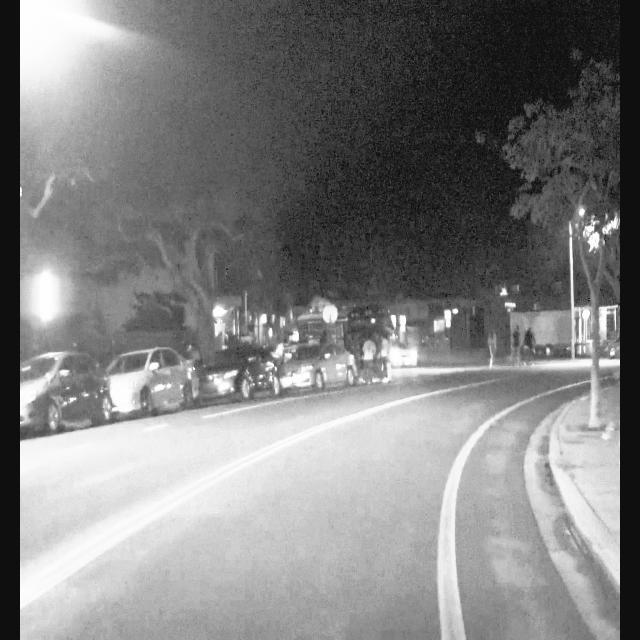Tree: (508, 94, 618, 439)
